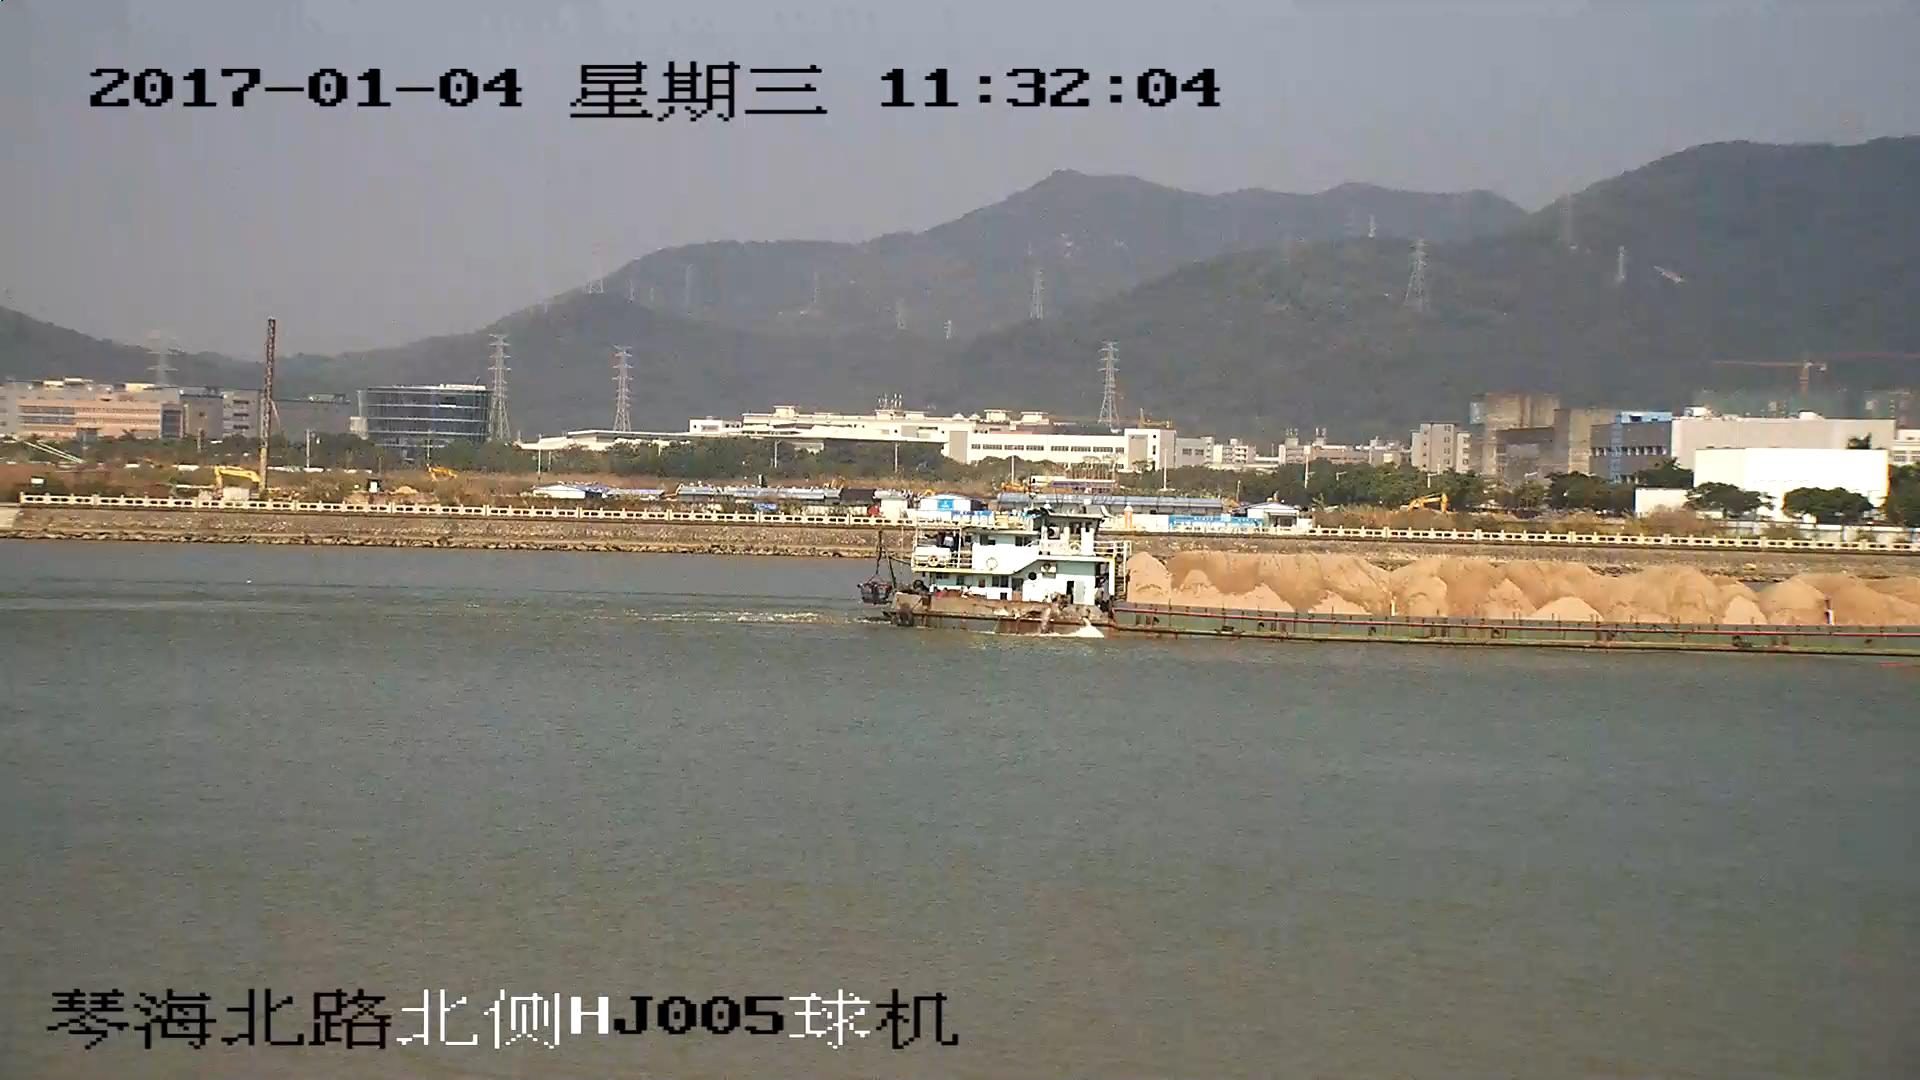ore carrier: (866, 500, 1920, 655)
